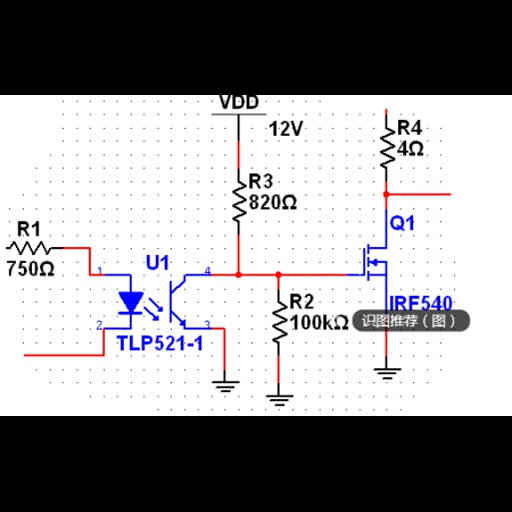firstled: (113, 287, 166, 324)
gnd: (370, 366, 405, 382), (262, 393, 299, 407), (207, 380, 244, 393)
mos: (364, 241, 387, 282)
secondresistance: (226, 174, 249, 229), (267, 295, 289, 350), (377, 121, 397, 179), (6, 240, 60, 257)
